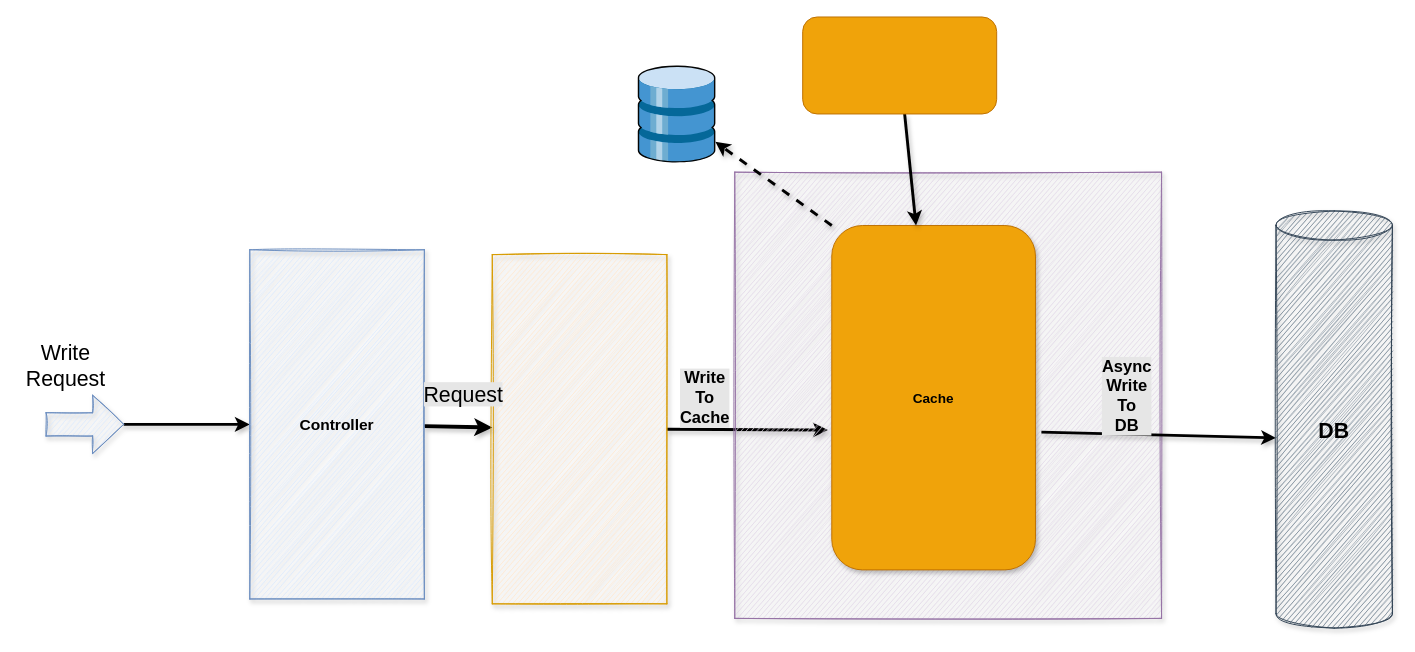
Image size: 1415x652. Some labels were removed from this diagram. Here are the shapes that lost their labels. From the top down, the centre of each, then its label:
At [899,65]: "Cache Manager".
At [580,430]: "Service".
